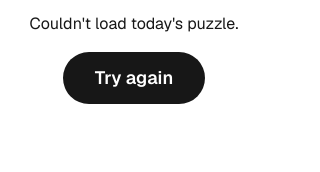
Test: F-040 StartScreen › loads the puzzle again when Try again is pressed
This screenshot has width=320, height=172.
Click the button "Try again".
click(134, 78)  # box [63,52,205,104]
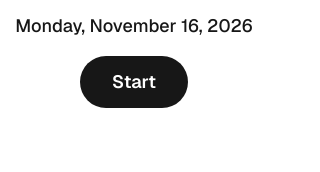
Expected: the link "Start" is shown, [80,56,188,108]
